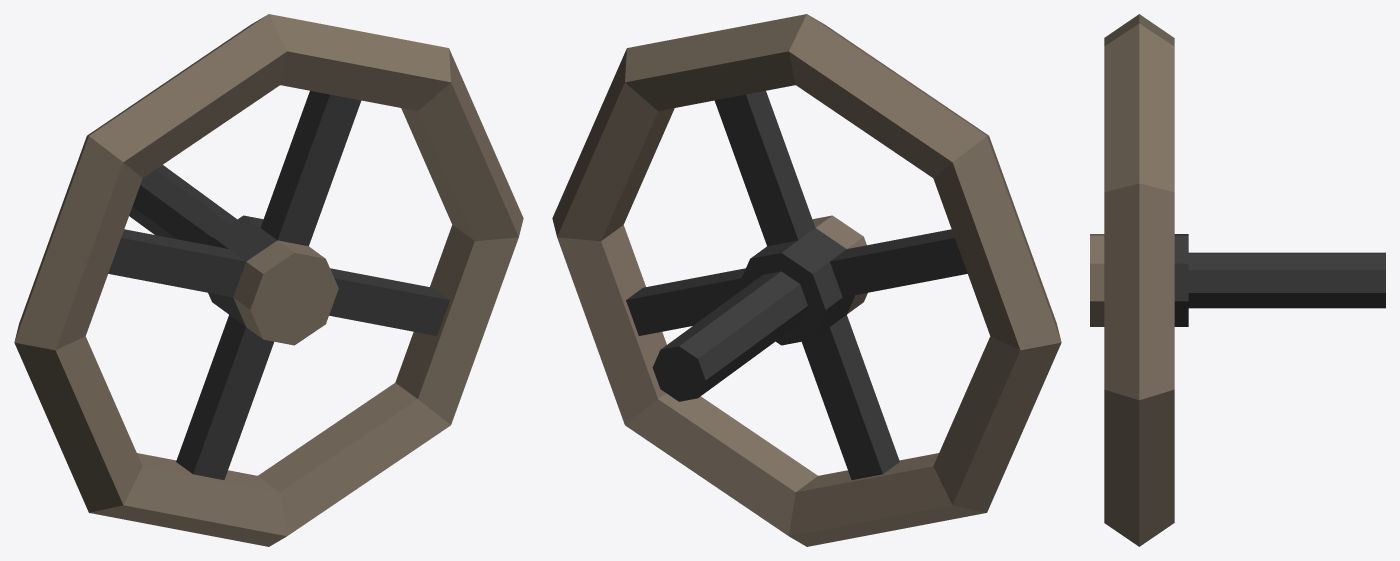
The model's file is steampunk_valve.fbx.
3 views of the same model, side by side, from view 1: azimuth 30°, elevation 25°; view 2: azimuth 150°, elevation 25°; view 3: azimuth 270°, elevation 25° (orthographic). The views are drawn at different scales.
Visible parts, largest first — view 1: Cylinder.009; view 2: Cylinder.009; view 3: Cylinder.009.
Part boxes in pixels (<box>): Cylinder.009: <box>14,14,523,546</box>; Cylinder.009: <box>552,14,1061,546</box>; Cylinder.009: <box>1090,14,1385,546</box>.
Size of the model in its own units: 0.575 by 0.575 by 0.3.
